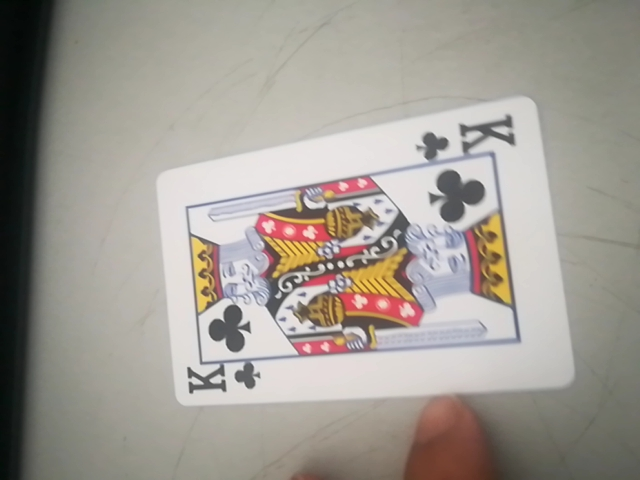mh k: (158, 100, 582, 413)
